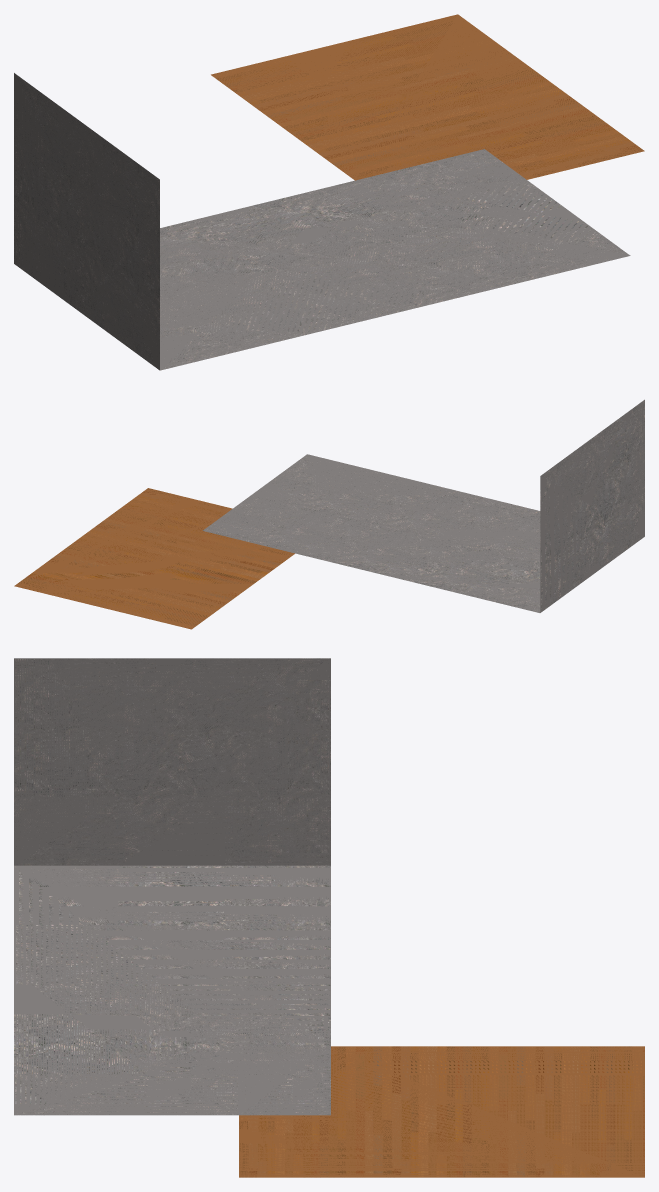
Rendered from floors.dae.
3 views of the same model, one above another, from view 1: azimuth 30°, elevation 25°; view 2: azimuth 150°, elevation 25°; view 3: azimuth 270°, elevation 25° (orthographic). The views are drawn at different scales.
Visible parts, largest first — view 1: SketchUp, SketchUp.001; view 2: SketchUp, SketchUp.001; view 3: SketchUp, SketchUp.001.
Part boxes in pixels (left/top/right/bottom): SketchUp: left=14, top=73, right=630, bottom=370; SketchUp.001: left=211, top=14, right=644, bottom=180; SketchUp: left=203, top=399, right=644, bottom=612; SketchUp.001: left=14, top=488, right=294, bottom=629; SketchUp: left=14, top=658, right=330, bottom=1115; SketchUp.001: left=239, top=1046, right=644, bottom=1177.
Size of the model in its own units: 6.28 by 5.37 by 1.95.
Materials: 2 (2 with a texture image).
